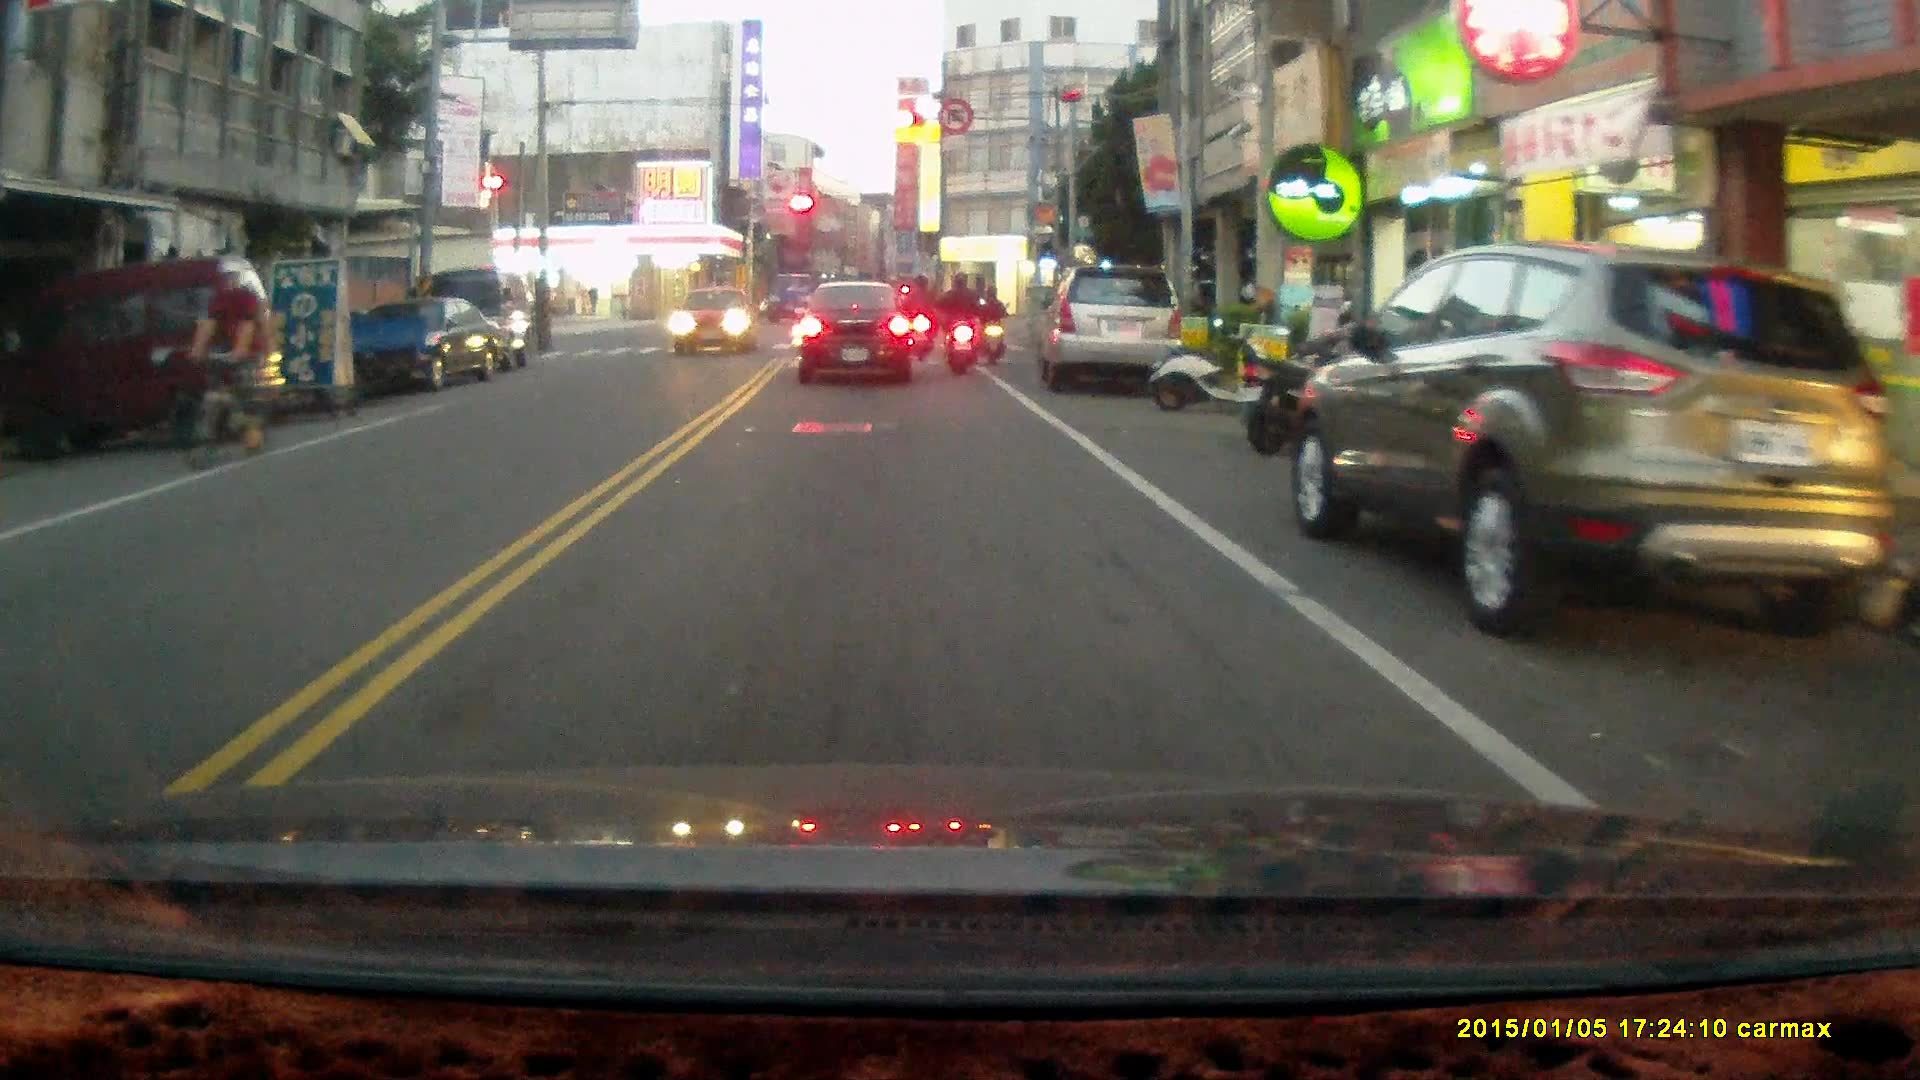rider: (179, 258, 273, 476), (937, 271, 986, 377), (901, 273, 937, 364), (977, 282, 1008, 366)
vehicle: (1297, 239, 1888, 638), (4, 258, 286, 454), (1037, 264, 1188, 400), (346, 295, 507, 395), (801, 281, 922, 389), (675, 285, 760, 357)
